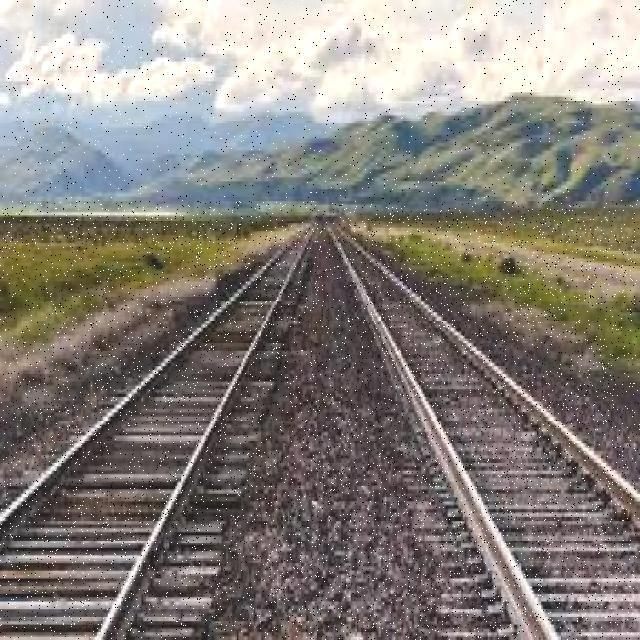rail: (0, 201, 637, 640)
